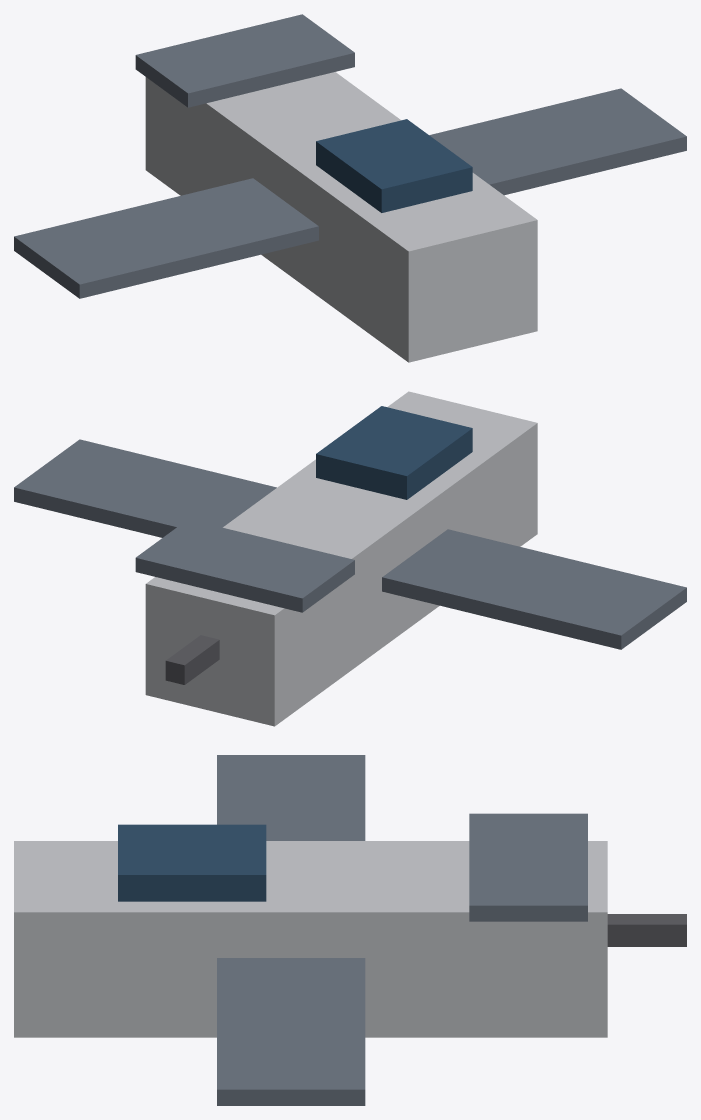
Rendered from aircraft.glb.
The picture shows the model from 3 angles, top to bottom: view 1: azimuth 30°, elevation 25°; view 2: azimuth 150°, elevation 25°; view 3: azimuth 270°, elevation 25°; orthographic projection. The views are drawn at different scales.
Parts seen in each view (by area): view 1: p0, p1, p2, p3; view 2: p0, p1, p2, p3, p4; view 3: p0, p1, p2, p3, p4.
Part boxes in pixels (left/top/right/bottom): p0: left=145, top=72, right=537, bottom=362; p1: left=14, top=88, right=686, bottom=298; p2: left=135, top=14, right=354, bottom=107; p3: left=316, top=119, right=472, bottom=212; p0: left=145, top=391, right=537, bottom=726; p1: left=14, top=439, right=686, bottom=649; p2: left=135, top=519, right=354, bottom=612; p3: left=316, top=406, right=472, bottom=499; p4: left=165, top=635, right=219, bottom=684; p0: left=14, top=841, right=607, bottom=1037; p1: left=217, top=755, right=365, bottom=1105; p2: left=469, top=813, right=587, bottom=921; p3: left=118, top=824, right=266, bottom=901; p4: left=607, top=914, right=686, bottom=946.
Bounding box in the file's own units: 8 × 1.7 × 6.8.
